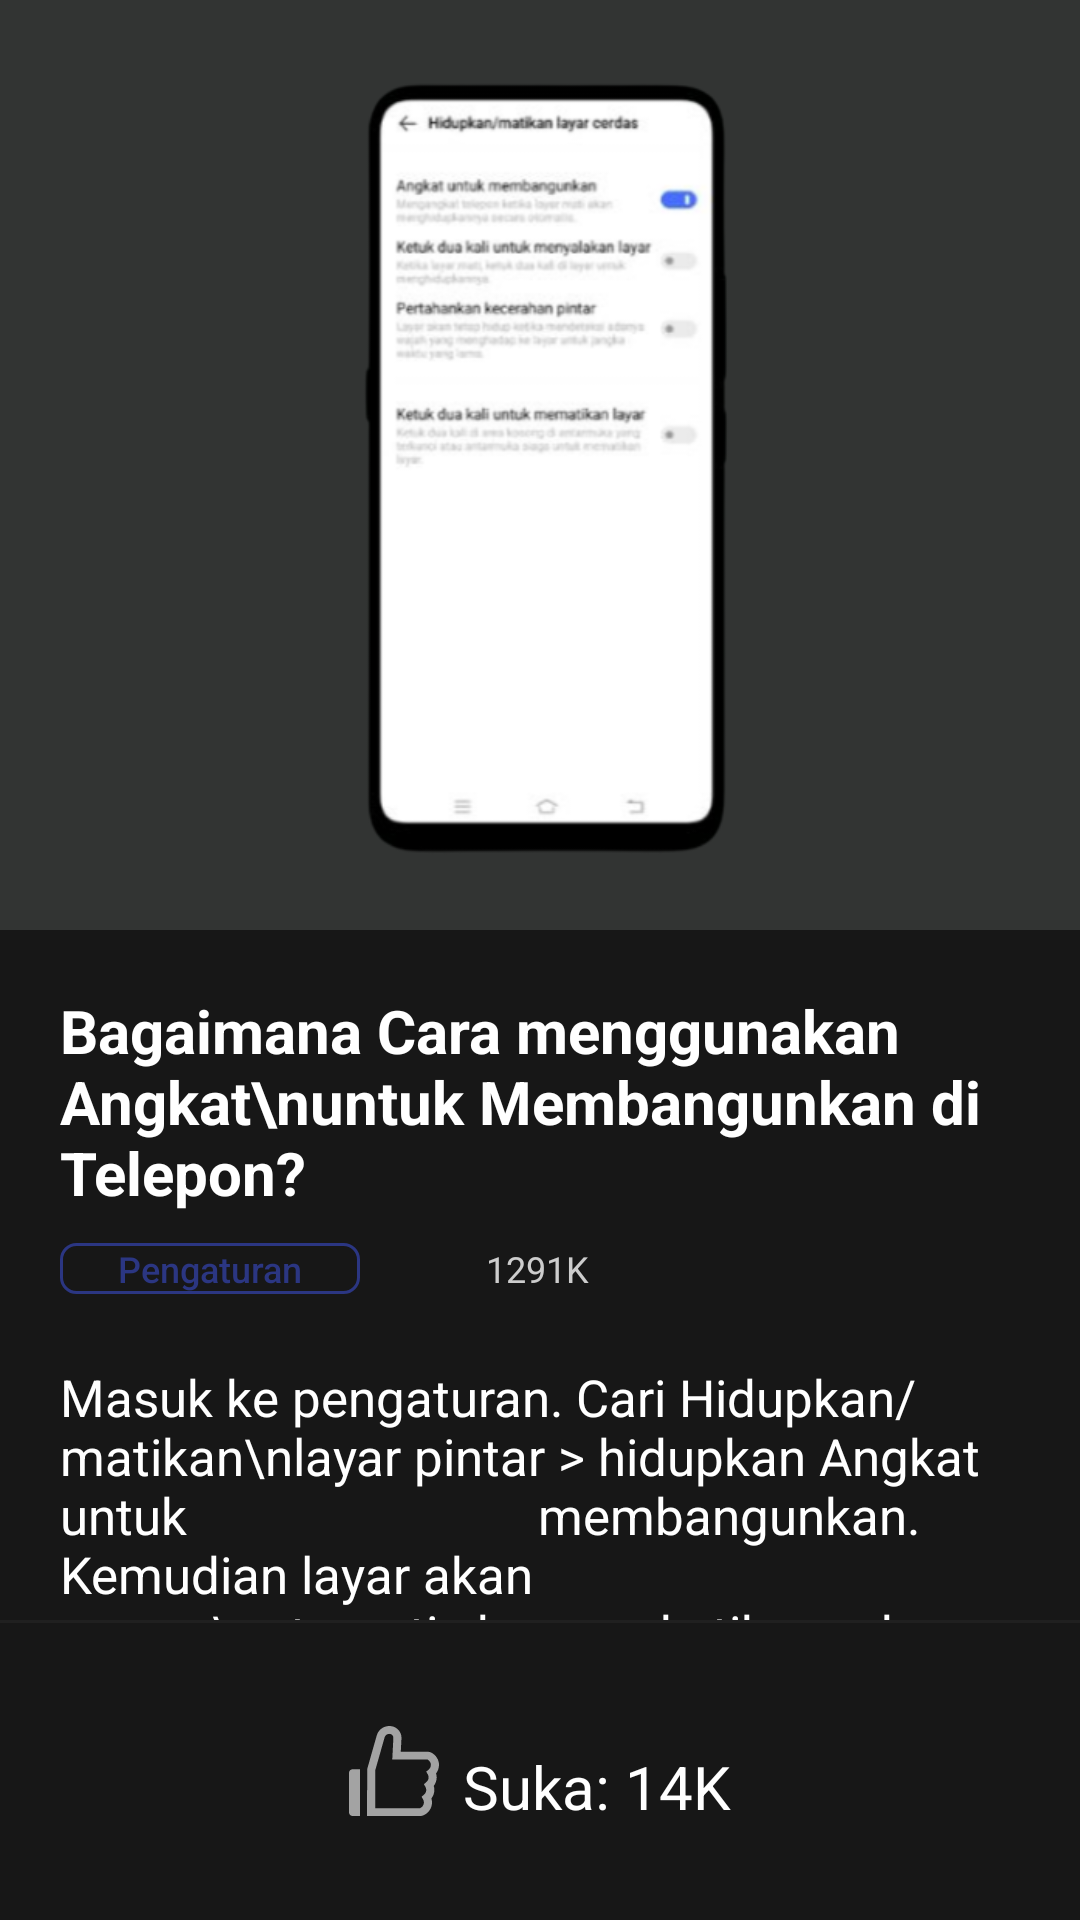

Where to tap for icons on this 1080 x 1920 app screen, as point (x, y):
like: point (394, 1771)
